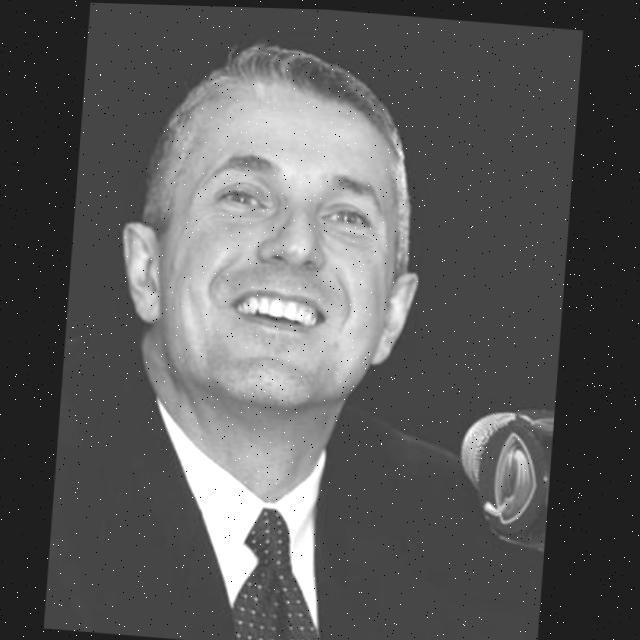face: (113, 57, 444, 436)
